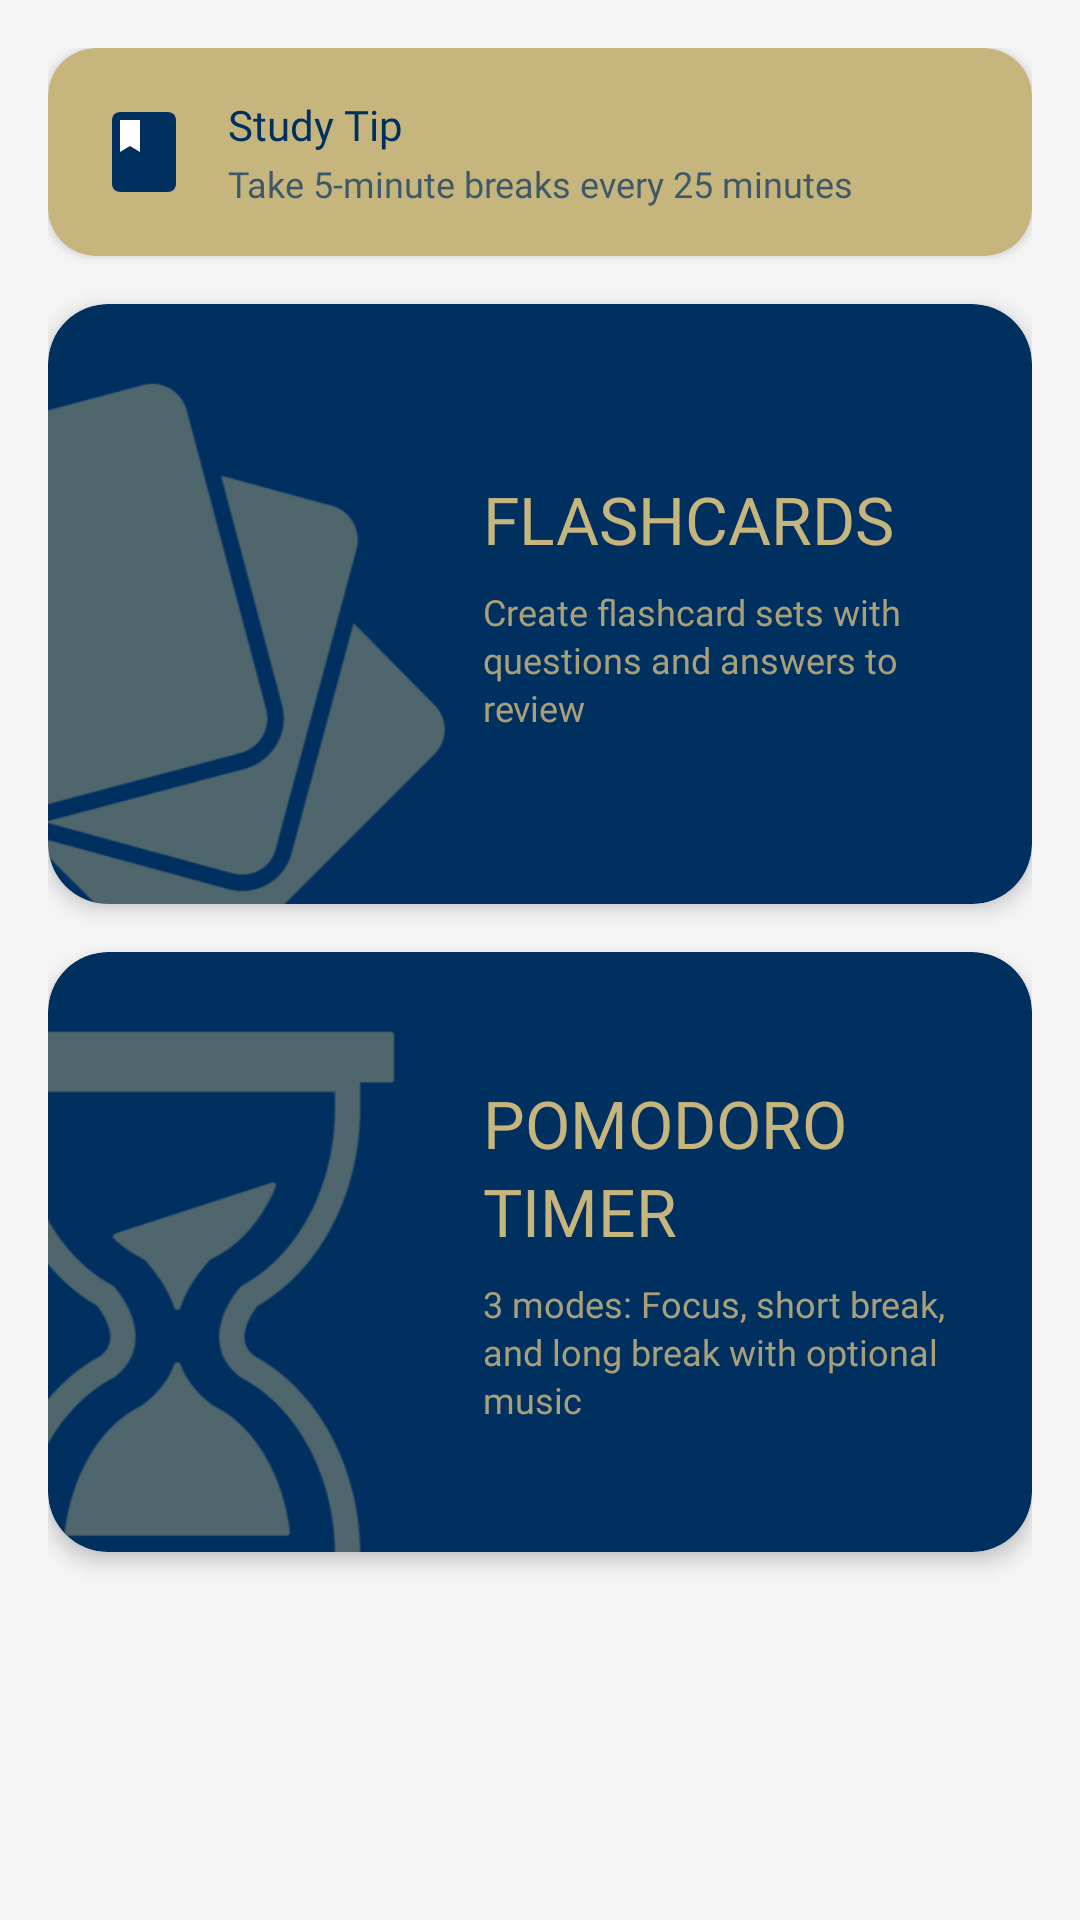

Point at icon controls on the screen. Image size 1080w x 1920h, points as point (x, y).
book: point (144, 152)
